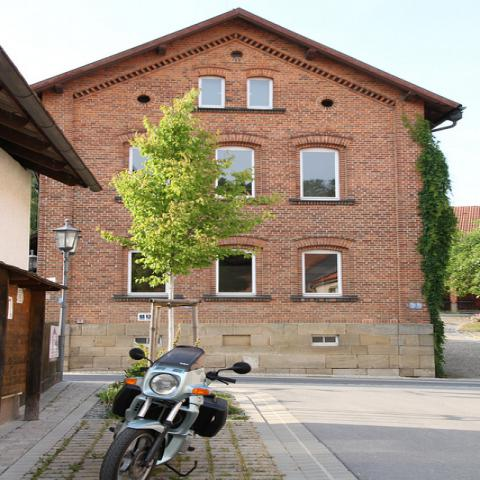motorcycle: (99, 346, 252, 479)
